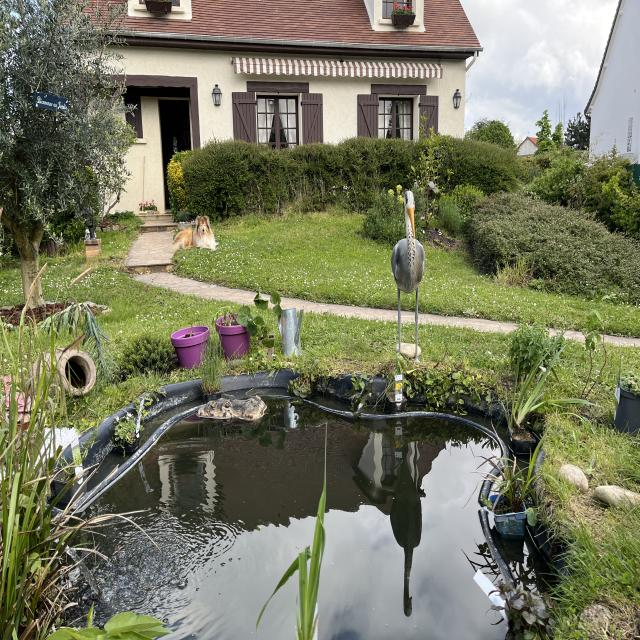Dog: (161, 204, 230, 270)
Heron: (380, 174, 448, 378)
